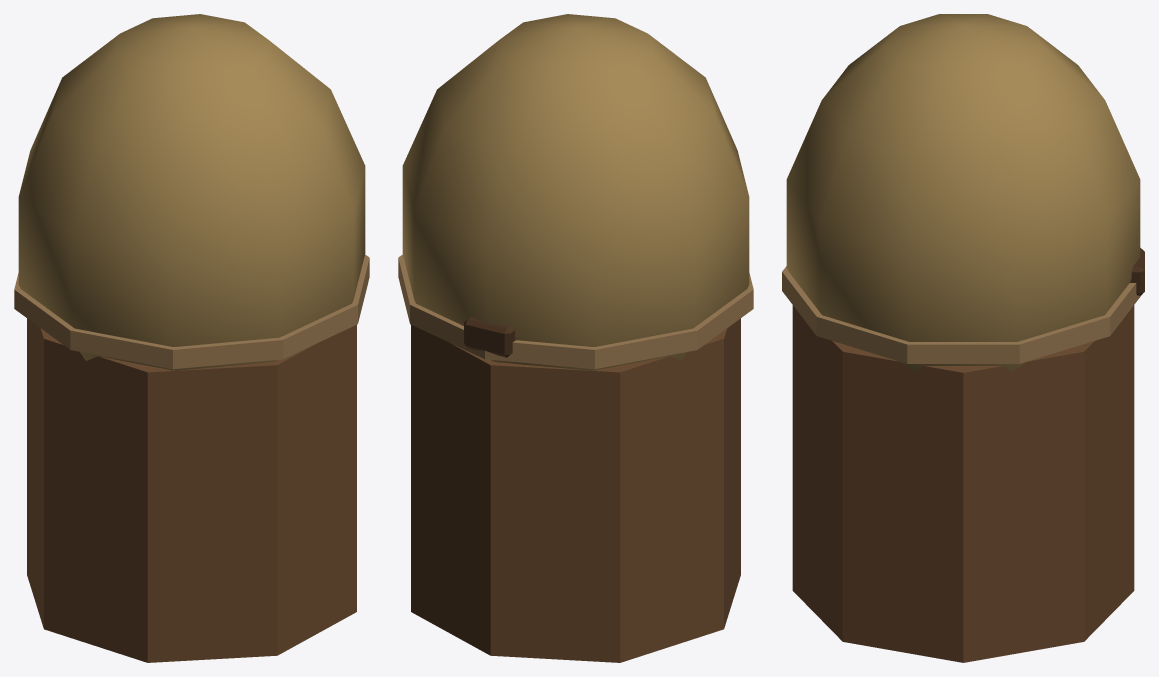
File: beehive.fbx
3 views of the same model, side by side, from view 1: azimuth 30°, elevation 25°; view 2: azimuth 150°, elevation 25°; view 3: azimuth 270°, elevation 25° (orthographic).
Visible parts, largest first — view 1: Prop; view 2: Prop; view 3: Prop.
Boxes of the visible parts, box(x1,y1,x2,y2) form: Prop: box(14, 14, 369, 662); Prop: box(398, 14, 753, 662); Prop: box(782, 14, 1144, 662).
Size of the model in its own units: 0.3234 by 0.34 by 0.584.
